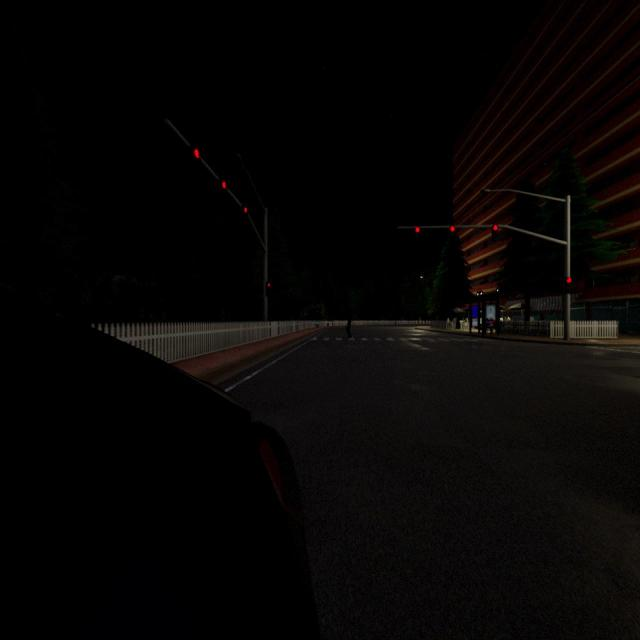Vehicle: (0, 288, 318, 640)
traffic_light: (565, 278, 572, 292), (193, 148, 199, 164), (414, 226, 420, 240), (492, 223, 498, 236), (221, 180, 227, 190), (450, 226, 455, 237), (266, 282, 270, 295), (243, 206, 248, 216)
